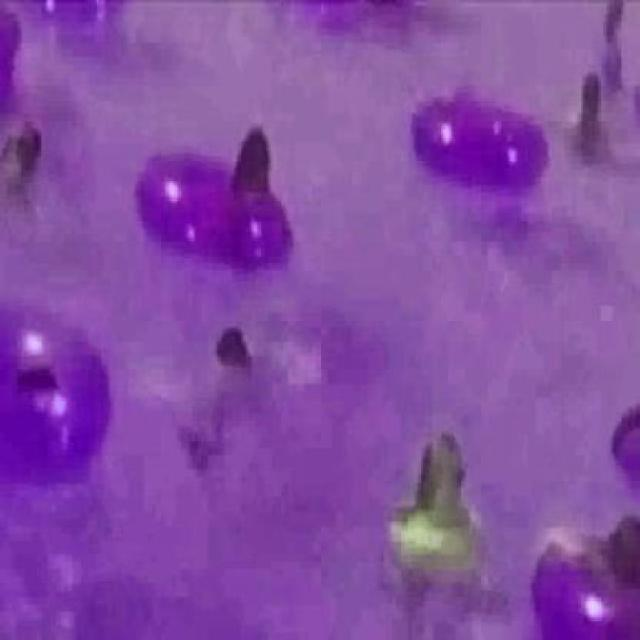drowning: (392, 440, 480, 594), (192, 338, 294, 440), (0, 115, 52, 229), (576, 68, 615, 184), (601, 1, 637, 94)
